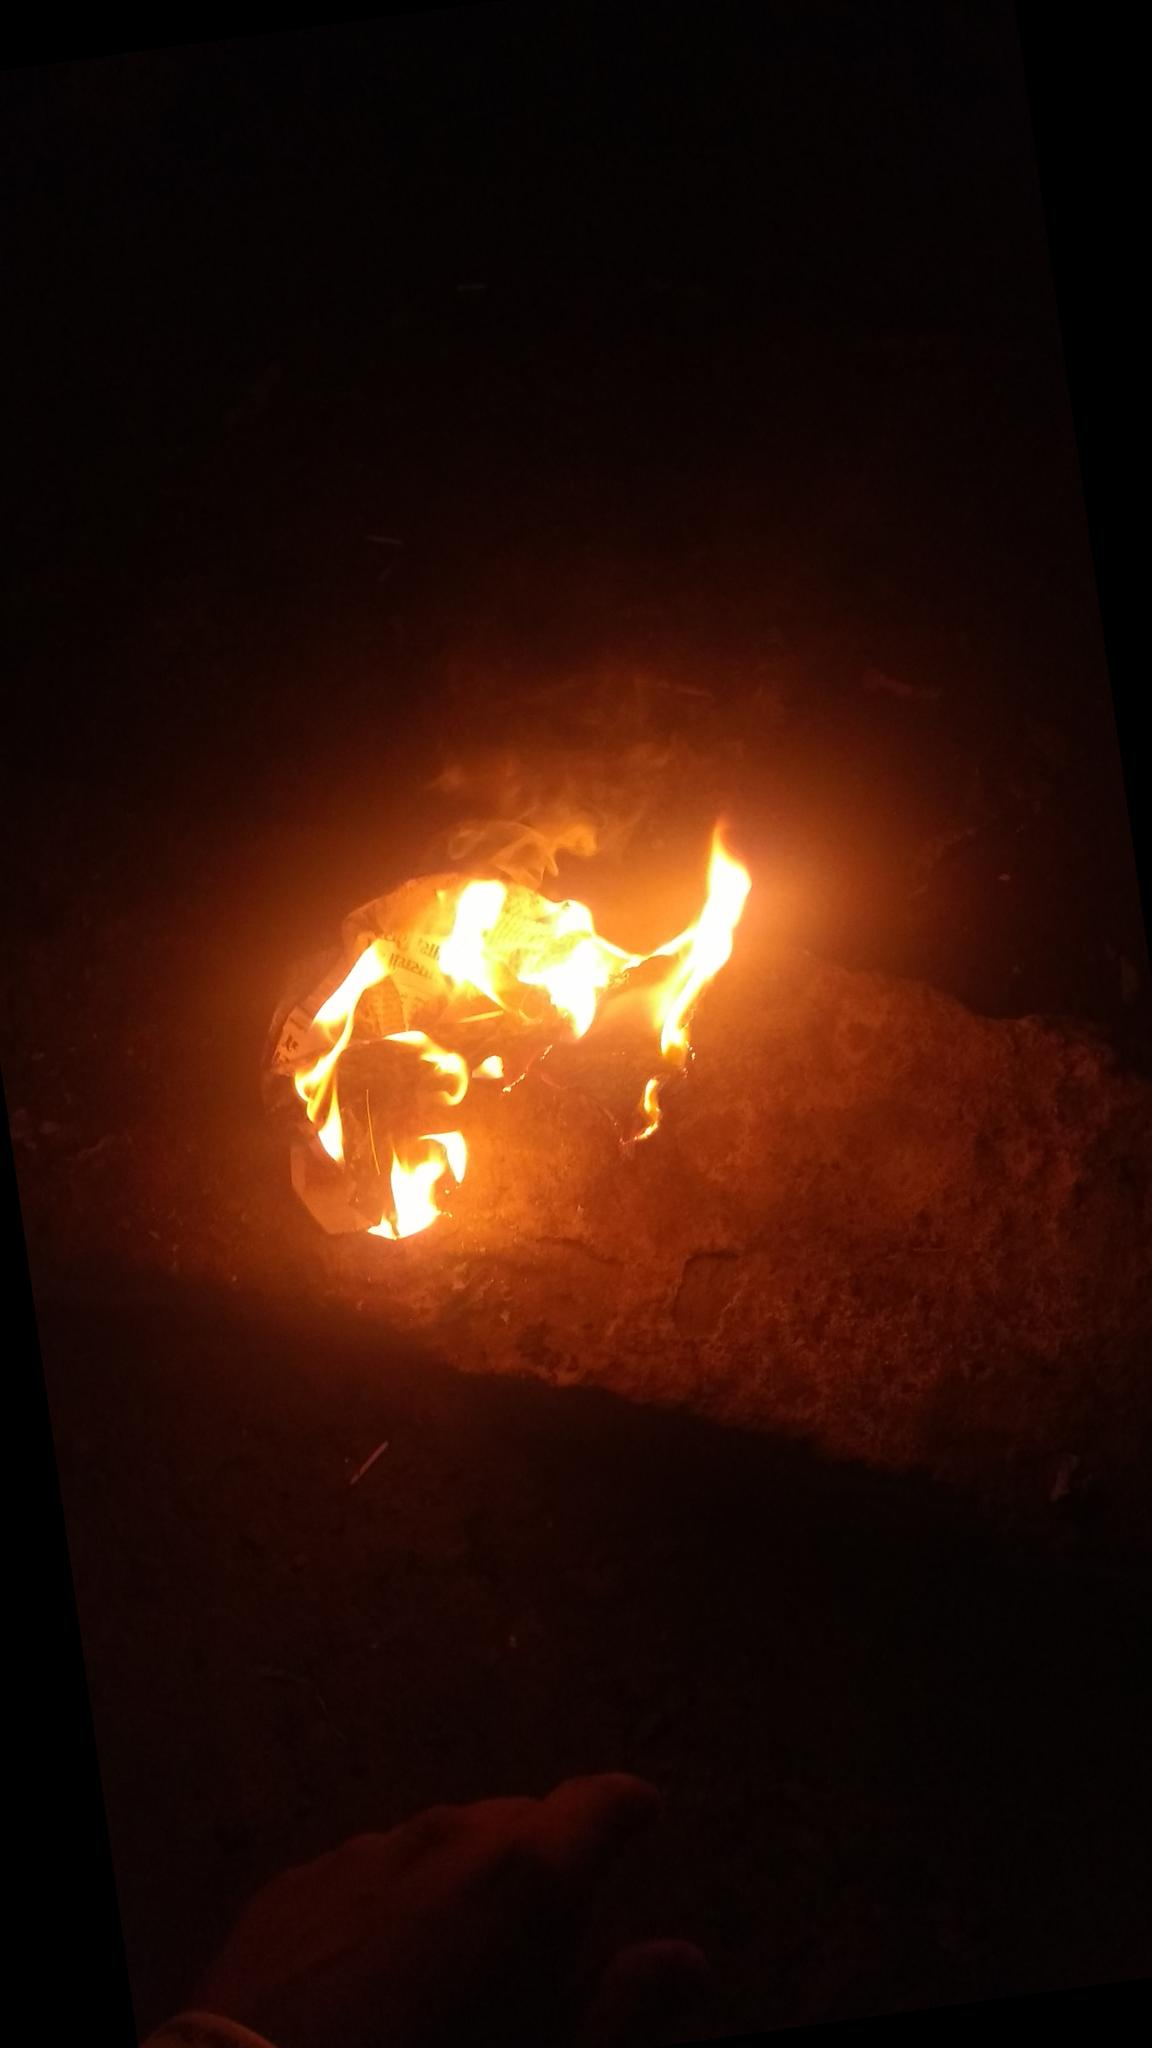Fire: (249, 805, 803, 1260)
